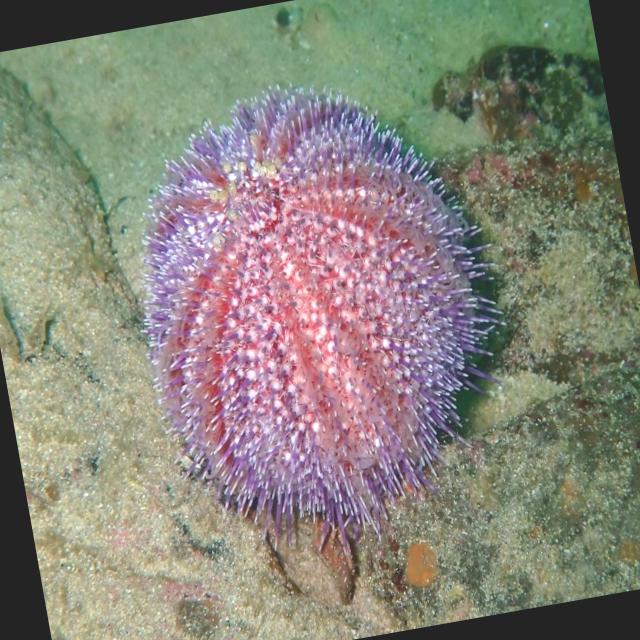Deniz Kestanesi: (100, 50, 542, 598)
